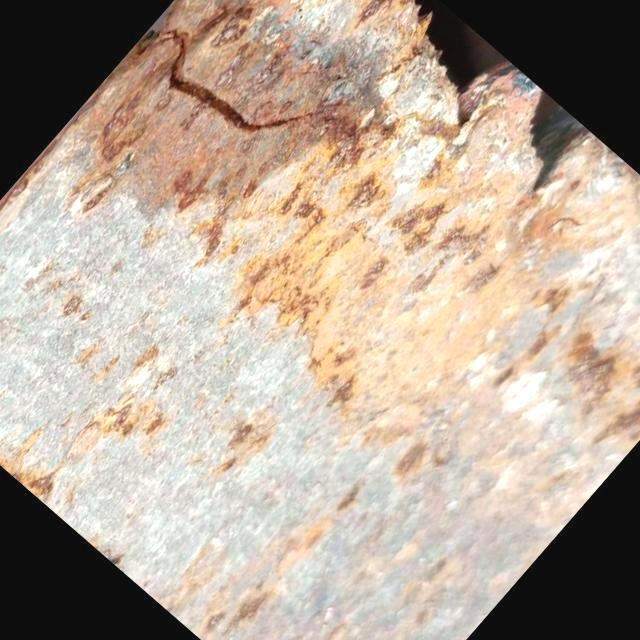defect: (154, 20, 372, 143)
